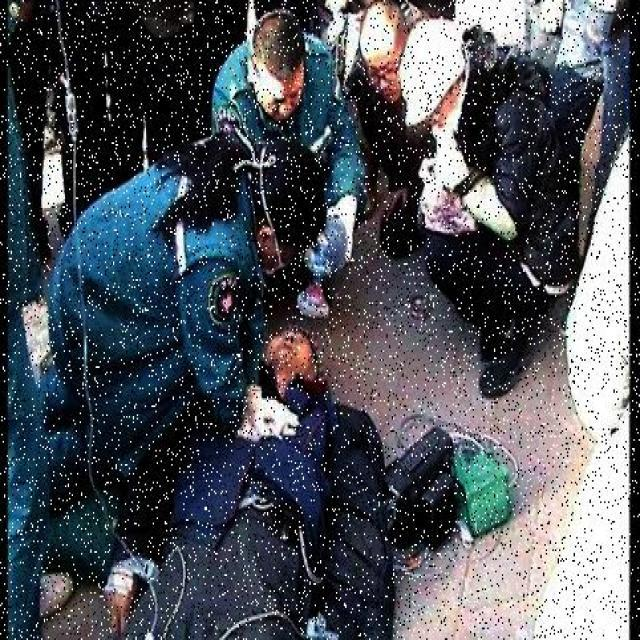fall: (118, 329, 386, 638)
